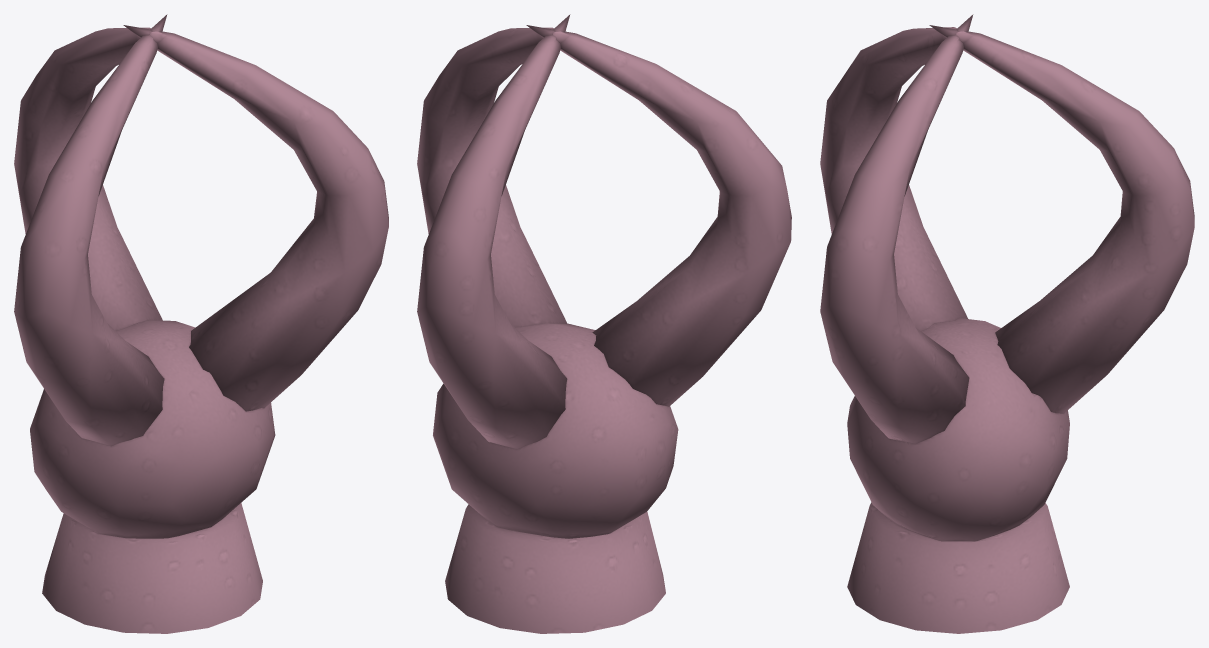
Rendered from cpart_hand_tentacle.glb.
3 views of the same model, side by side, from view 1: azimuth 30°, elevation 25°; view 2: azimuth 150°, elevation 25°; view 3: azimuth 270°, elevation 25° (orthographic).
Parts seen in each view (by area): view 1: HandTentacle; view 2: HandTentacle; view 3: HandTentacle.
Part boxes in pixels (x1=…): HandTentacle: x1=14, y1=14, x2=388, y2=633; HandTentacle: x1=417, y1=14, x2=791, y2=633; HandTentacle: x1=820, y1=14, x2=1194, y2=633.
Bounding box in the file's own units: 0.1133 × 0.167 × 0.1009.
Materials: 1 (1 with a texture image).
